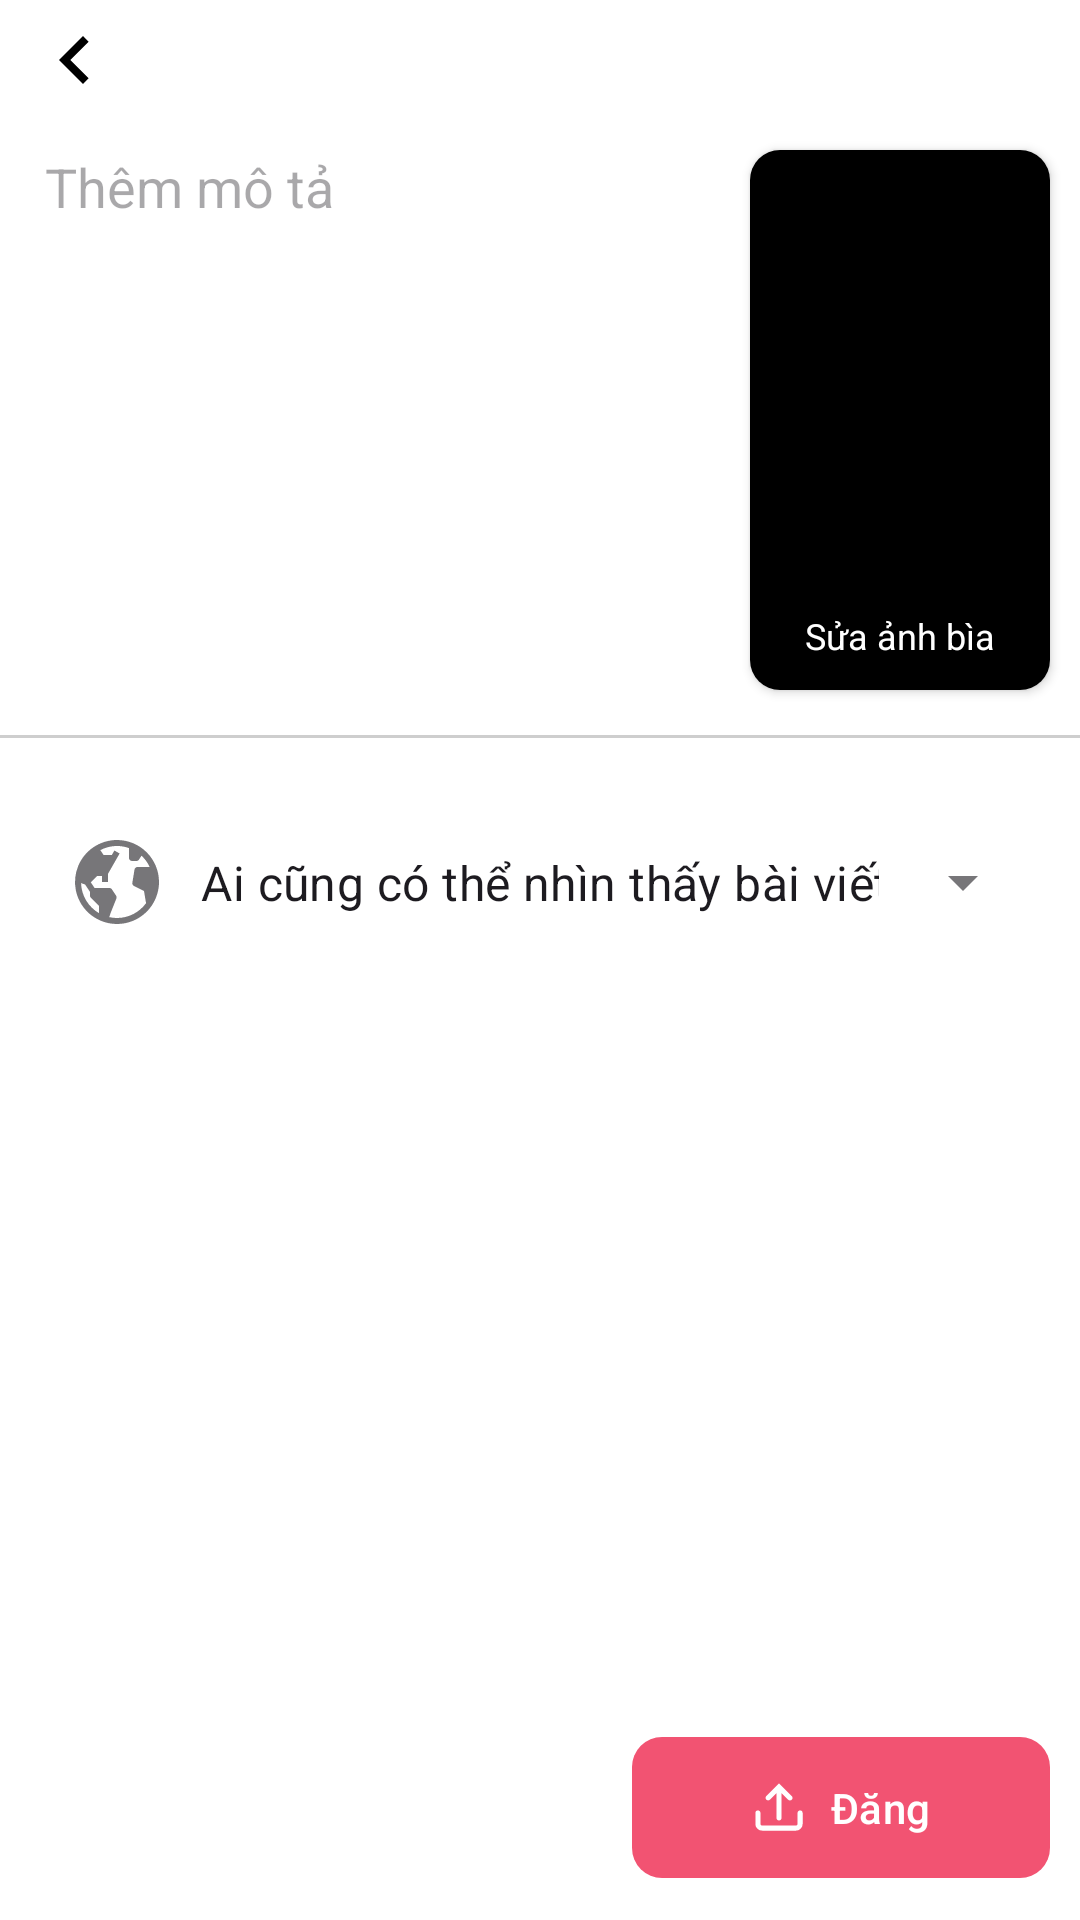

Screen size 1080px x 1920px. Icon name, then its center in pixels as point (x, y):
left arrow: point (74, 60)
